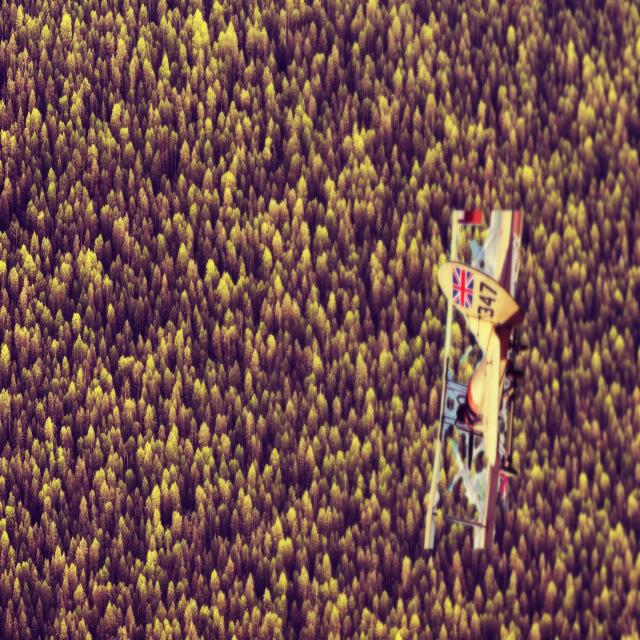airplane: (423, 206, 527, 553)
